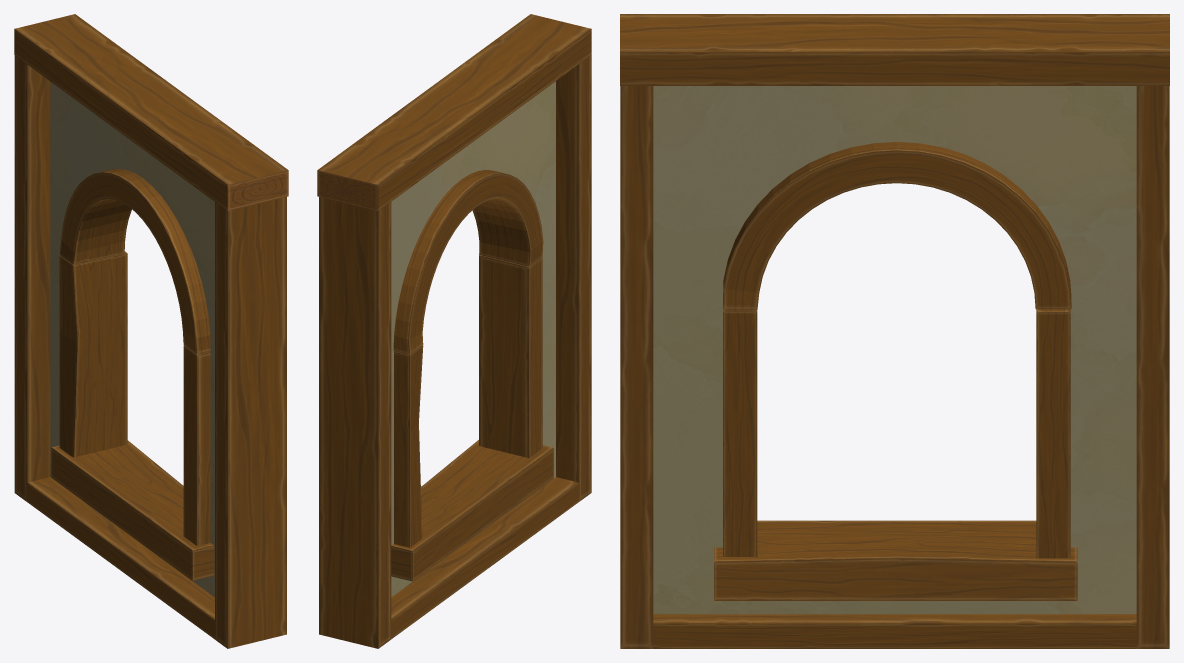
The model's file is SM_House_Roof_01_WallMiddle_A_05.fbx.
The picture shows the model from 3 angles, left to right: view 1: azimuth 30°, elevation 25°; view 2: azimuth 150°, elevation 25°; view 3: azimuth 270°, elevation 25°; orthographic projection. The views are drawn at different scales.
Visible parts, largest first — view 1: SM_House_Roof_01_WallMiddle_A_05; view 2: SM_House_Roof_01_WallMiddle_A_05; view 3: SM_House_Roof_01_WallMiddle_A_05.
Part boxes in pixels (x1,y1,x2,y2): SM_House_Roof_01_WallMiddle_A_05: (14, 14, 288, 648); SM_House_Roof_01_WallMiddle_A_05: (317, 14, 591, 648); SM_House_Roof_01_WallMiddle_A_05: (620, 14, 1169, 648).
Bounding box in the file's own units: 0.4515 × 3 × 2.5.
